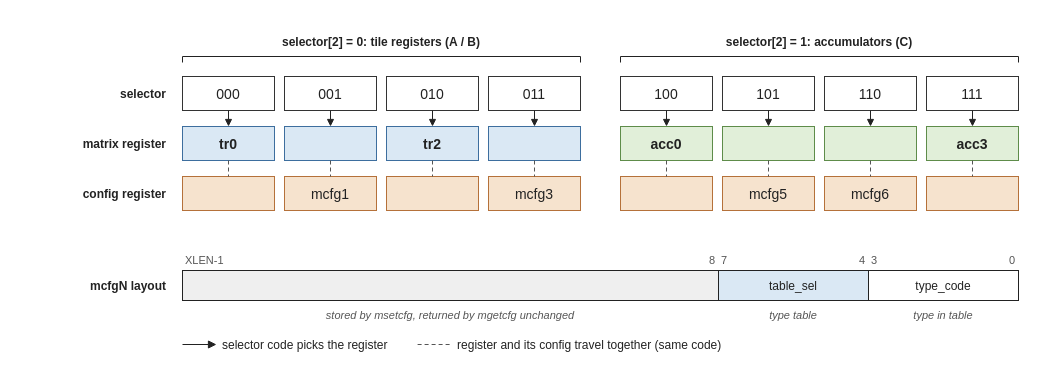
This 1051x384 diagram has some shape labels left out. Each missing label, with the centre of its shape:
acc1: pixel 768 143
acc2: pixel 870 143
mcfg0: pixel 228 193
mcfg2: pixel 432 193
mcfg4: pixel 666 193
mcfg7: pixel 972 193
tr1: pixel 330 143
tr3: pixel 534 143
uninterpreted payload: pixel 450 285
